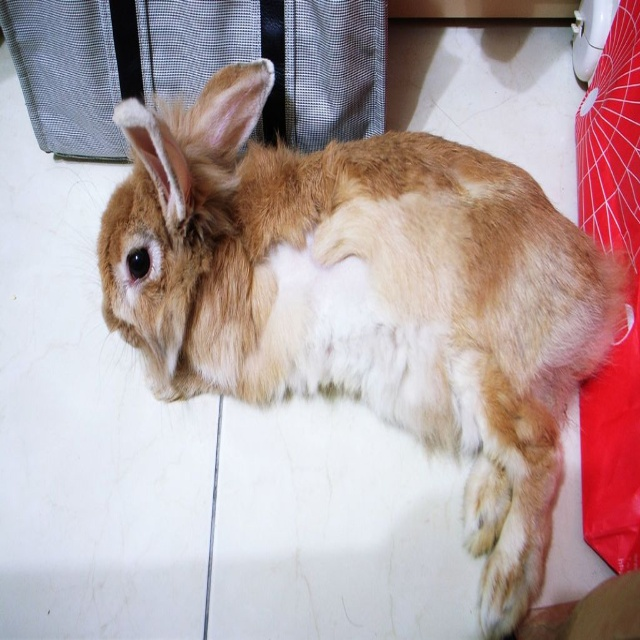Rabbit: (52, 58, 635, 638)
